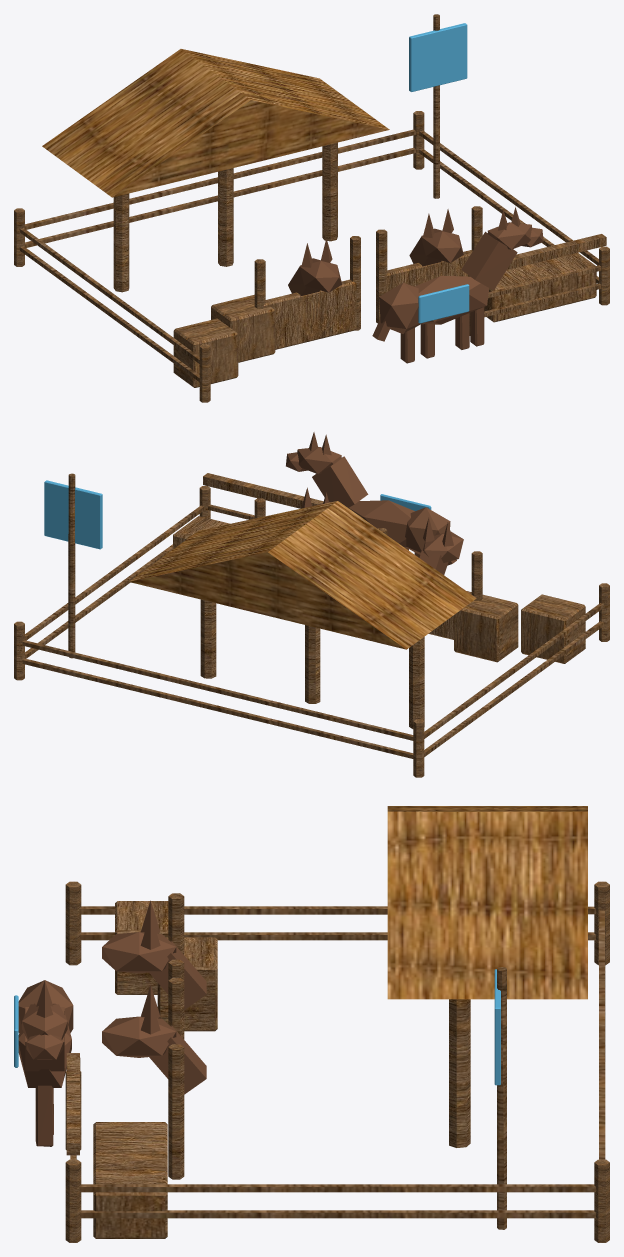
File: edificio-b_017-e0-DJwys9cD.glb
The picture shows the model from 3 angles, top to bottom: view 1: azimuth 30°, elevation 25°; view 2: azimuth 150°, elevation 25°; view 3: azimuth 270°, elevation 25°; orthographic projection. The views are drawn at different scales.
Visible parts, largest first — view 1: envolvente_establo, caballos_establo, team_color; view 2: envolvente_establo, caballos_establo, team_color; view 3: envolvente_establo, caballos_establo, team_color.
Part boxes in pixels (bbox=[...]): envolvente_establo: bbox=[14, 14, 609, 402]; caballos_establo: bbox=[288, 207, 543, 363]; team_color: bbox=[409, 23, 469, 323]; envolvente_establo: bbox=[14, 473, 609, 777]; caballos_establo: bbox=[286, 432, 463, 574]; team_color: bbox=[44, 480, 431, 549]; envolvente_establo: bbox=[65, 806, 609, 1242]; caballos_establo: bbox=[18, 900, 206, 1146]; team_color: bbox=[14, 969, 500, 1085].
Size of the model in its own units: 47.73 by 20 by 41.71.
Materials: 3 (1 with a texture image).
